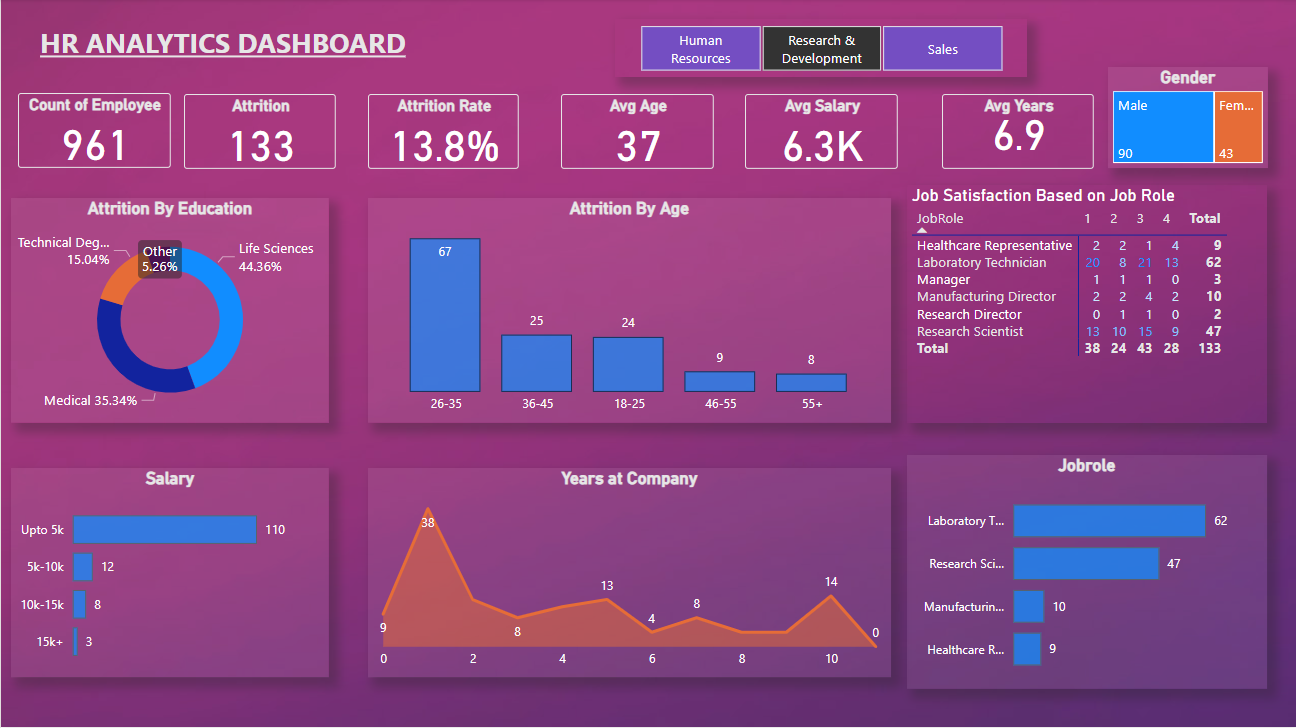

Layout of this report page (visuals, bound fields, positions):
{"tool":"powerbi","page":{"name":"Page 1","canvas":[1280,720],"ordinal":0},"visuals":[{"type":"card","title":"Count of Employee","fields":{"Values":["CountNonNull(HR_Analytics (1).EmpID)"]},"box":[16.7,92.8,150.8,73.9],"z":0},{"type":"card","title":"Attrition","fields":{"Values":["Sum(HR_Analytics (1).Attrition Count)"]},"box":[181.2,93.8,150.3,73.5],"z":1000},{"type":"card","title":"Attrition Rate","fields":{"Values":["HR_Analytics (1).Attrition Rate"]},"box":[362.4,93.8,149.2,73.5],"z":2000},{"type":"card","title":"Avg Age","fields":{"Values":["Avg(HR_Analytics (1).Age)"]},"box":[553.1,93.8,151.3,73.5],"z":3000},{"type":"card","title":"Avg Salary","fields":{"Values":["Avg(HR_Analytics (1).MonthlyIncome)"]},"box":[735.4,93.8,151.3,73.5],"z":4000},{"type":"card","title":"Avg Years","fields":{"Values":["Avg(HR_Analytics (1).YearsAtCompany)"]},"box":[930.4,93.8,150.3,73.5],"z":5000},{"type":"donutChart","title":"Attrition By Education","fields":{"Category":["HR_Analytics (1).EducationField"],"Y":["Sum(HR_Analytics (1).Attrition Count)"]},"box":[9.6,197.2,314.4,221.7],"z":6000},{"type":"columnChart","title":"Attrition By Age","fields":{"Category":["HR_Analytics (1).AgeGroup"],"Y":["Sum(HR_Analytics (1).Attrition Count)"]},"box":[362.4,197.2,516.9,221.7],"z":7000},{"type":"pivotTable","title":"Job Satisfaction Based on Job Role","fields":{"Rows":["HR_Analytics (1).JobRole"],"Columns":["HR_Analytics (1).JobSatisfaction"],"Values":["Sum(HR_Analytics (1).Attrition Count)"]},"box":[895.6,183.9,355.9,234.9],"z":8000},{"type":"barChart","title":"Salary","fields":{"Category":["HR_Analytics (1).SalarySlab"],"Y":["Sum(HR_Analytics (1).Attrition Count)"]},"box":[9.6,463.6,314.4,206.8],"z":9000},{"type":"barChart","title":"Jobrole","fields":{"Category":["HR_Analytics (1).JobRole"],"Y":["Sum(HR_Analytics (1).Attrition Count)"]},"box":[895.6,450.8,355.9,231.3],"z":10000},{"type":"areaChart","title":"Years at Company","fields":{"Category":["HR_Analytics (1).YearsAtCompany"],"Y":["Sum(HR_Analytics (1).Attrition Count)"]},"box":[362.4,463.6,516.9,206.8],"z":11000},{"type":"treemap","title":"Gender","fields":{"Group":["HR_Analytics (1).Gender"],"Values":["Sum(HR_Analytics (1).Attrition Count)"]},"box":[1093.8,67.6,157.8,99.6],"z":12000},{"type":"textbox","box":[33.2,20.2,390.3,47.5],"z":13000},{"type":"slicer","fields":{"Values":["HR_Analytics (1).Department"]},"box":[607.4,20.2,406.9,56.9],"z":14000}]}

Visuals, with their boxes in screenshot pixels (x1, y1, x2, y2), scaled from the page's 1280x720 canvas onto the 1296x728 screenshot:
"Count of Employee" card: x1=17, y1=94, x2=170, y2=169
"Attrition" card: x1=183, y1=95, x2=336, y2=169
"Attrition Rate" card: x1=367, y1=95, x2=518, y2=169
"Avg Age" card: x1=560, y1=95, x2=713, y2=169
"Avg Salary" card: x1=745, y1=95, x2=898, y2=169
"Avg Years" card: x1=942, y1=95, x2=1094, y2=169
"Attrition By Education" donutChart: x1=10, y1=199, x2=328, y2=424
"Attrition By Age" columnChart: x1=367, y1=199, x2=890, y2=424
"Job Satisfaction Based on Job Role" pivotTable: x1=907, y1=186, x2=1267, y2=423
"Salary" barChart: x1=10, y1=469, x2=328, y2=678
"Jobrole" barChart: x1=907, y1=456, x2=1267, y2=690
"Years at Company" areaChart: x1=367, y1=469, x2=890, y2=678
"Gender" treemap: x1=1107, y1=68, x2=1267, y2=169
textbox: x1=34, y1=20, x2=429, y2=68
slicer - HR_Analytics (1).Department: x1=615, y1=20, x2=1027, y2=78
